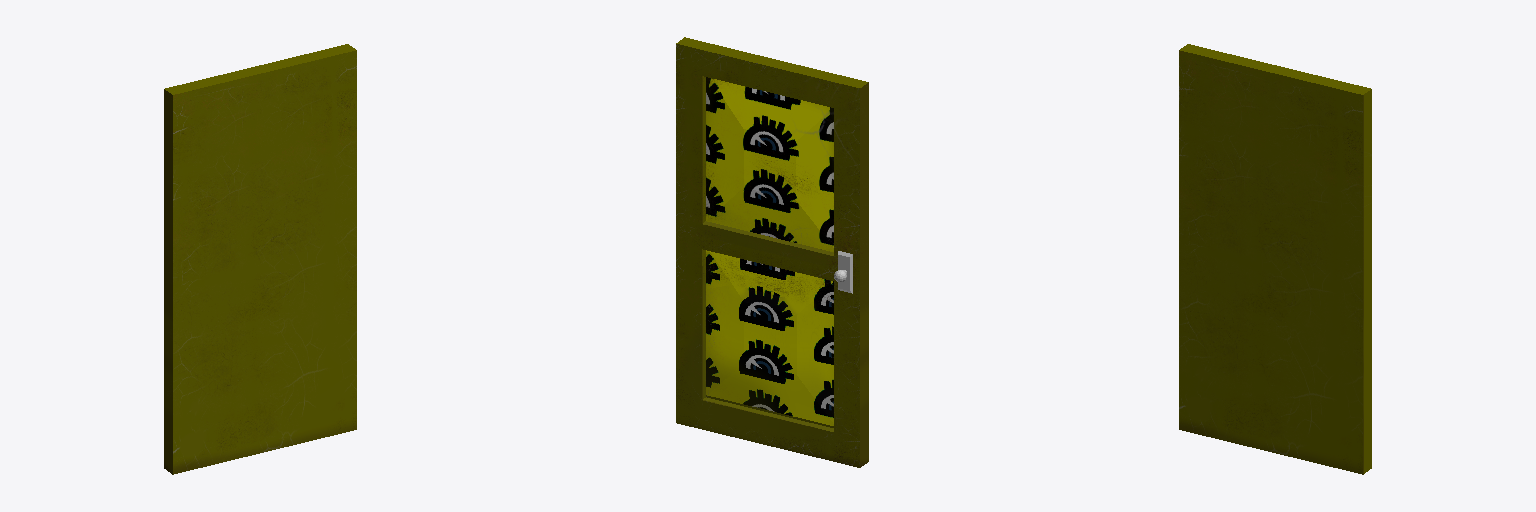
3 renders of one model, left to right at view 1: azimuth 30°, elevation 25°; view 2: azimuth 150°, elevation 25°; view 3: azimuth 330°, elevation 25°, orthographic.
Visible parts, largest first — view 1: Cube; view 2: Cube, Cube.001; view 3: Cube.
Part boxes in pixels (bbox=[...]): Cube: bbox=[164, 44, 356, 474]; Cube: bbox=[676, 37, 868, 467]; Cube.001: bbox=[834, 251, 852, 293]; Cube: bbox=[1179, 44, 1371, 474].
Bounding box in the file's own units: 2.39 × 4.71 × 0.3984.
Materials: 2 (1 with a texture image).